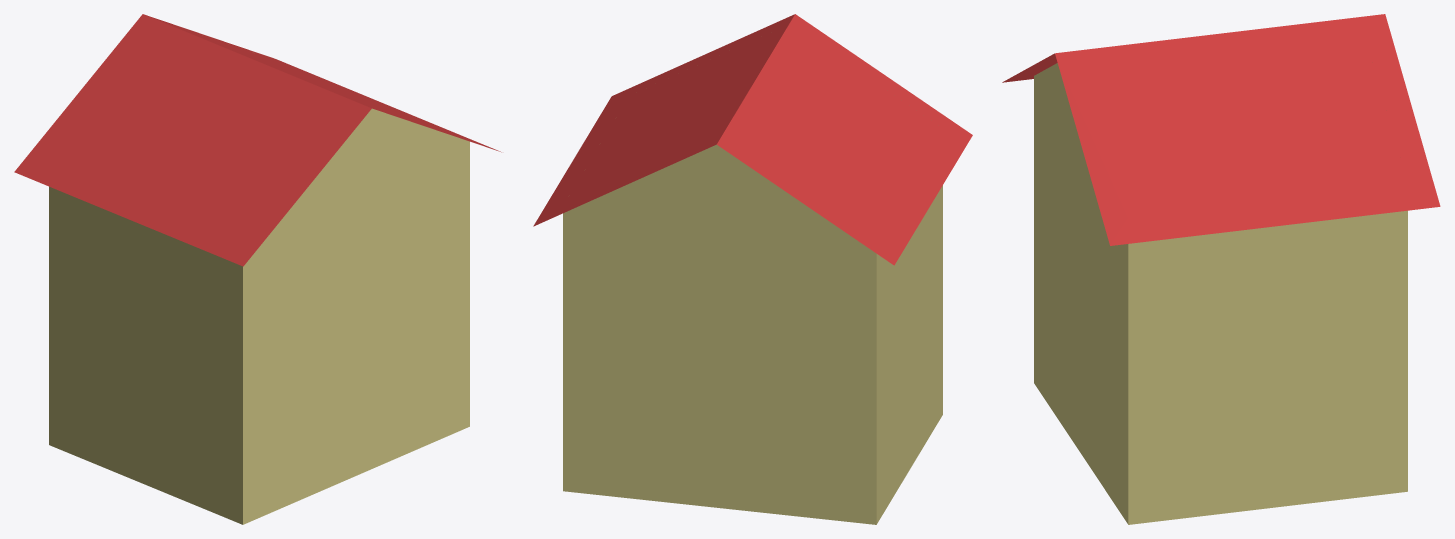
The picture shows the model from 3 angles, left to right: view 1: azimuth 30°, elevation 25°; view 2: azimuth 150°, elevation 25°; view 3: azimuth 270°, elevation 25°; orthographic projection. The views are drawn at different scales.
Parts seen in each view (by area): view 1: group_5, group_3, group_4; view 2: group_5, group_3, group_4; view 3: group_5, group_3, group_4.
Boxes of the visible parts, bbox=[...] form: group_5: bbox=[49, 108, 469, 524]; group_3: bbox=[14, 14, 467, 265]; group_4: bbox=[122, 14, 501, 266]; group_5: bbox=[563, 144, 942, 524]; group_3: bbox=[563, 14, 972, 265]; group_4: bbox=[533, 14, 972, 226]; group_5: bbox=[1034, 63, 1407, 524]; group_3: bbox=[1002, 14, 1407, 244]; group_4: bbox=[1006, 14, 1440, 245].
Bounding box in the file's own units: 13.57 × 12.43 × 12.58.
